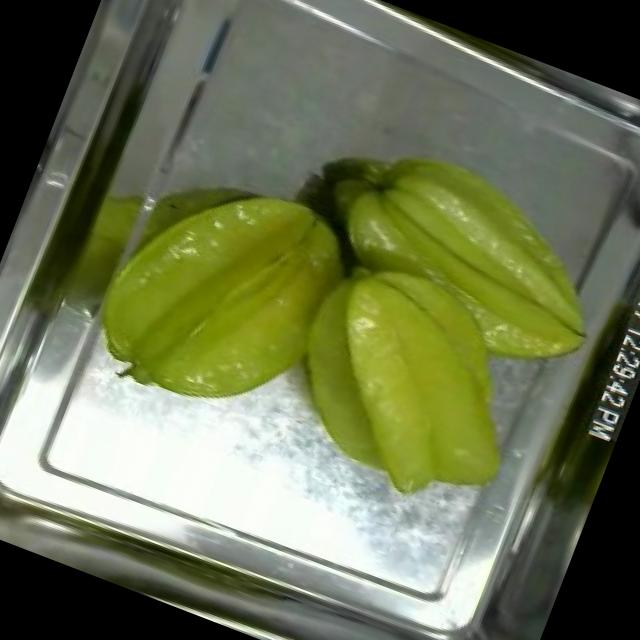fruit: (251, 117, 640, 547), (70, 130, 372, 445)
